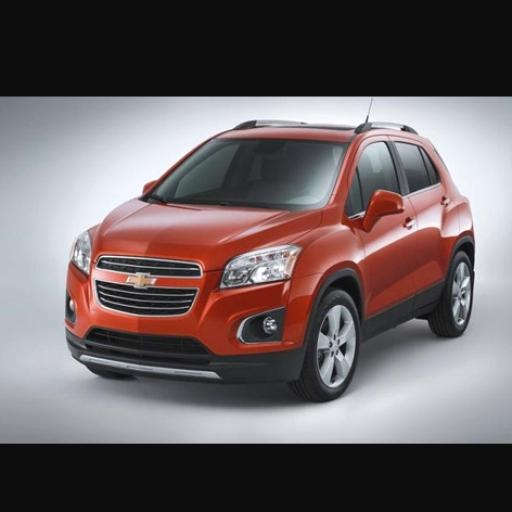suv: (67, 120, 474, 400)
